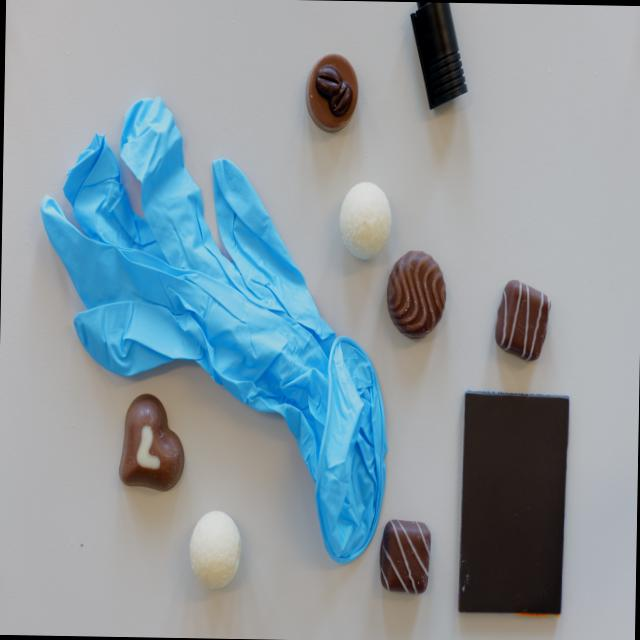Arabia: (306, 51, 357, 130)
Comtesse: (188, 508, 242, 587), (340, 181, 391, 259)
Noir_authentique: (387, 251, 446, 337)
Passion_au_lait: (118, 394, 186, 492)
Stracciatella: (495, 282, 550, 361), (380, 520, 430, 592)
